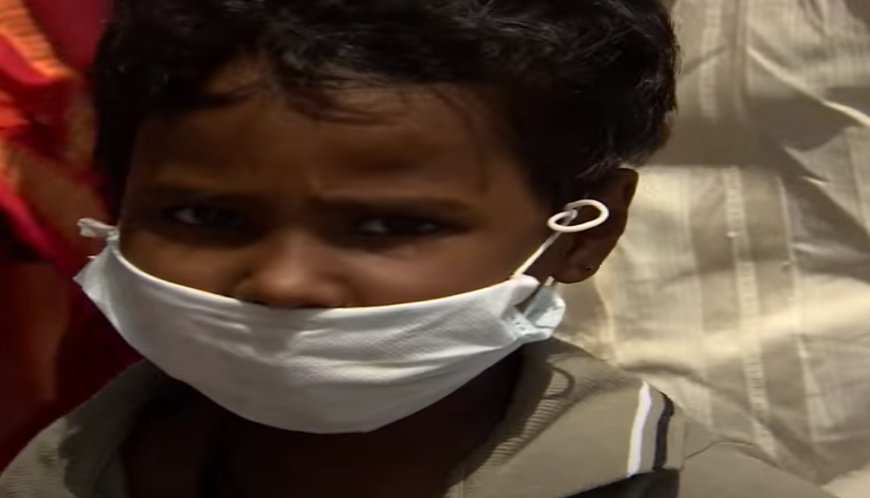mask_weared_incorrect: (70, 7, 626, 436)
